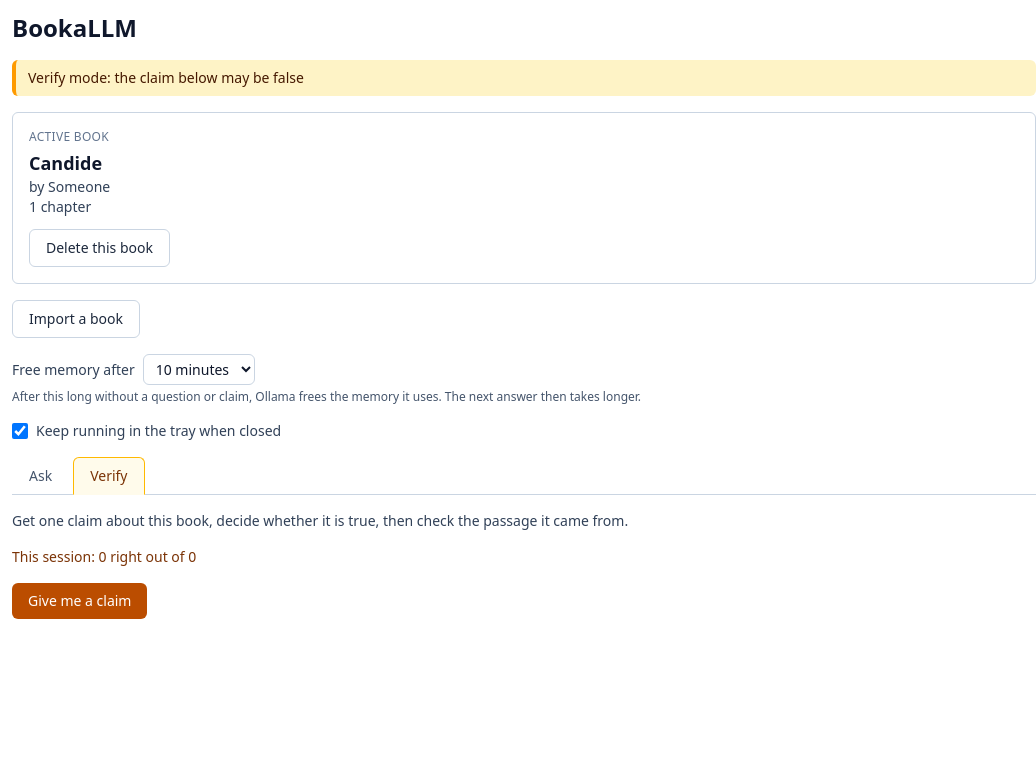
it: Verify session › shows a plain failure with a retry that works
The width and height of the screenshot is (1036, 780).
Click the button "Give me a claim".
click(80, 601)  # box top-left (12, 583), bottom-right (148, 619)
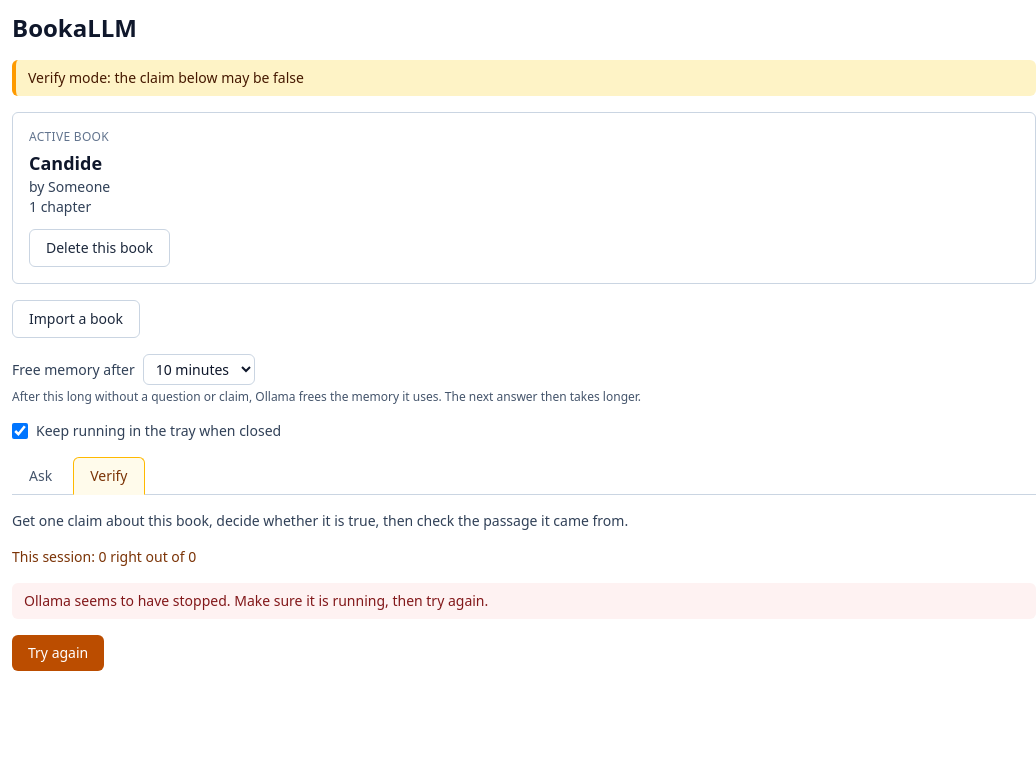
Expected: the message shows "Ollama seems to have stopped", top-left (24, 591), bottom-right (488, 610)
Click the button "Try again".
click(58, 653)  # box top-left (12, 635), bottom-right (104, 671)
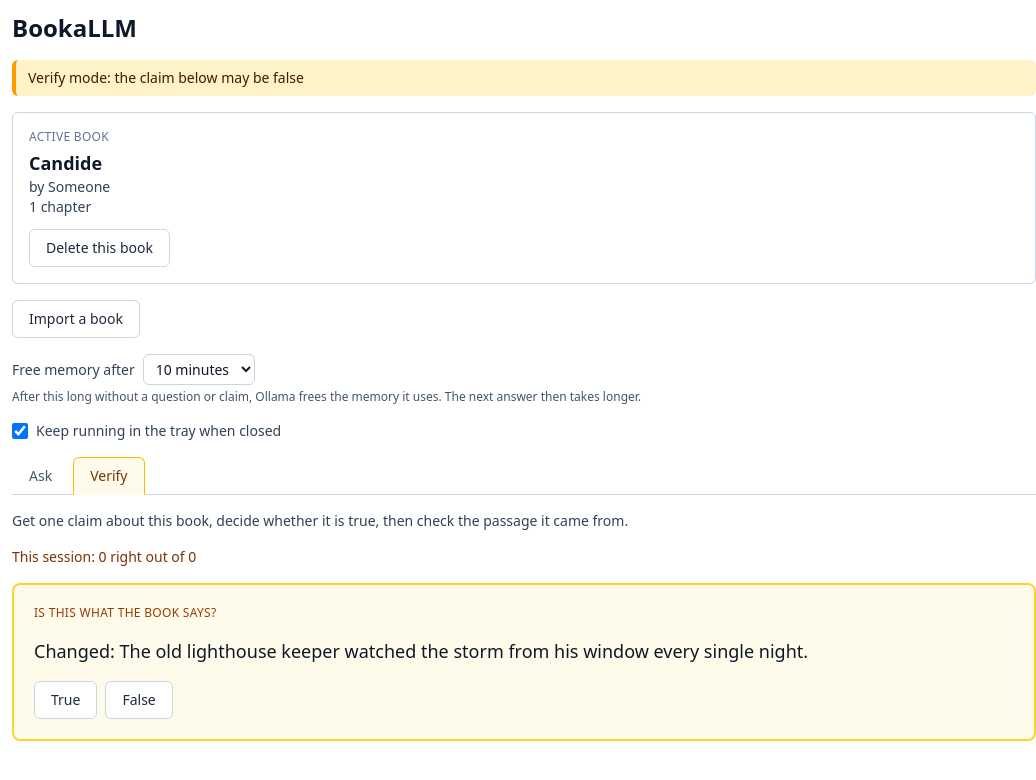
Expected: the button "True" is shown, top-left (34, 681), bottom-right (97, 719)
